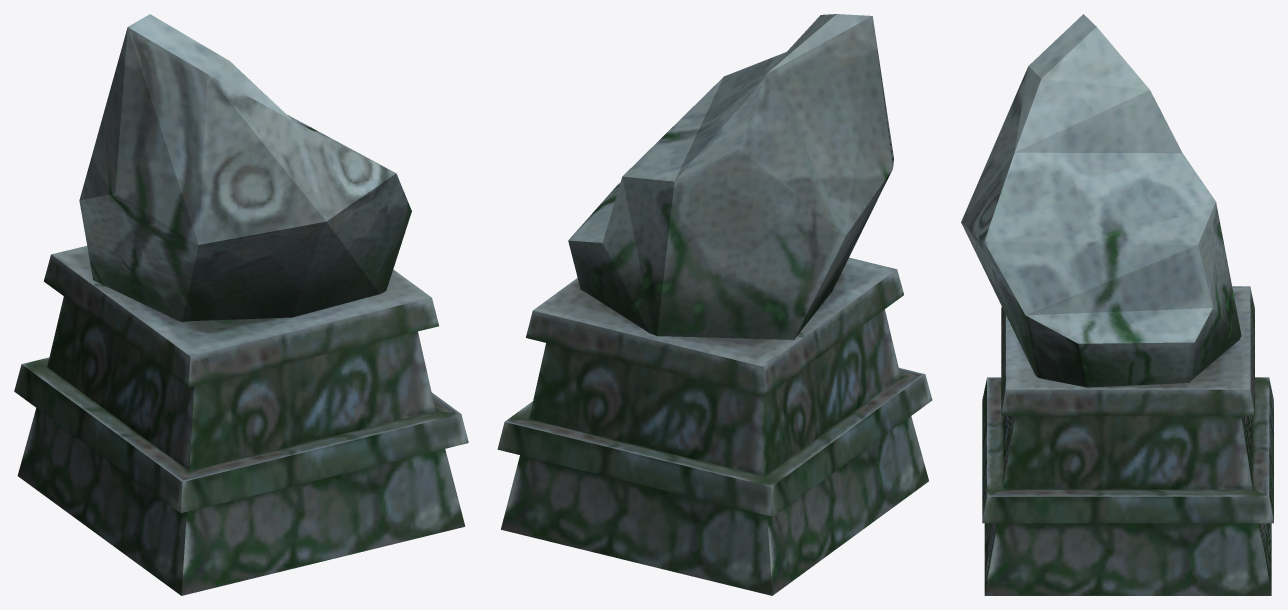
Rendered from stemple_tentacle_03.fbx.
3 renders of one model, left to right at view 1: azimuth 30°, elevation 25°; view 2: azimuth 150°, elevation 25°; view 3: azimuth 270°, elevation 25°, orthographic. The views are drawn at different scales.
Parts seen in each view (by area): view 1: obj0.020; view 2: obj0.020; view 3: obj0.020.
Boxes of the visible parts, x1,y1,x2,y2 form: obj0.020: (14, 14, 468, 595); obj0.020: (497, 14, 932, 595); obj0.020: (961, 14, 1273, 595).
Size of the model in its own units: 1.84 by 3.08 by 1.89.
